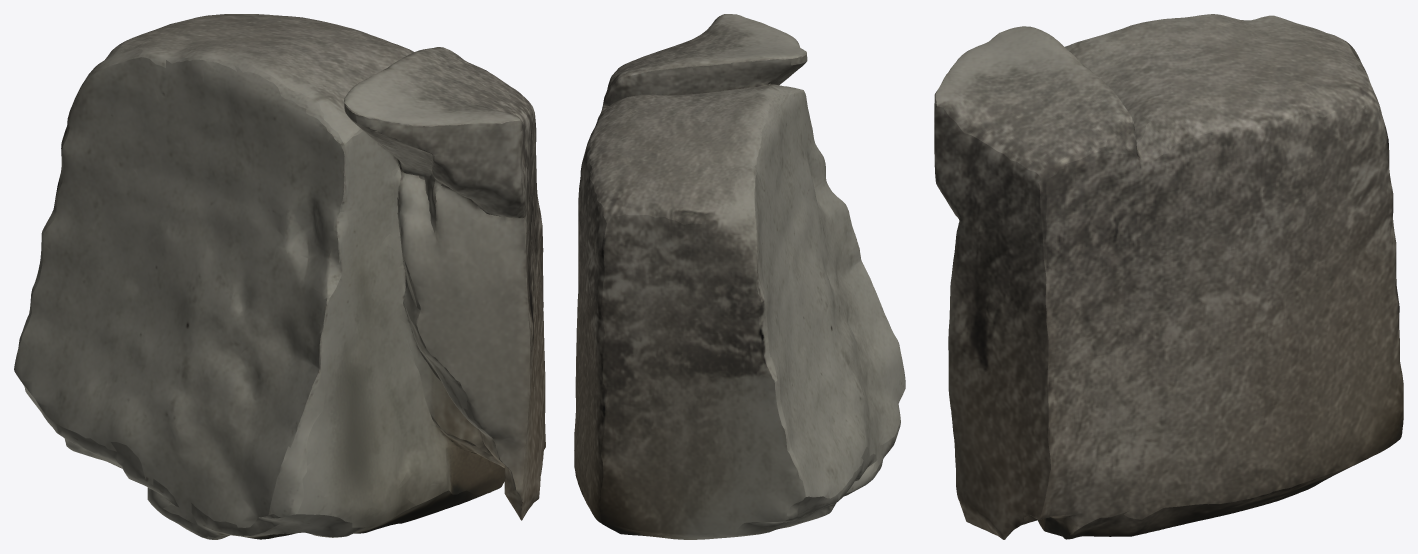
3 renders of one model, left to right at view 1: azimuth 30°, elevation 25°; view 2: azimuth 150°, elevation 25°; view 3: azimuth 270°, elevation 25°, orthographic. The views are drawn at different scales.
Visible parts, largest first — view 1: world; view 2: world; view 3: world.
Boxes of the visible parts, x1,y1,x2,y2 form: world: (14, 14, 545, 539); world: (574, 14, 905, 539); world: (934, 14, 1403, 539).
Bounding box in the file's own units: 0.3233 × 0.35 × 0.3476.
Materials: 1 (1 with a texture image).
